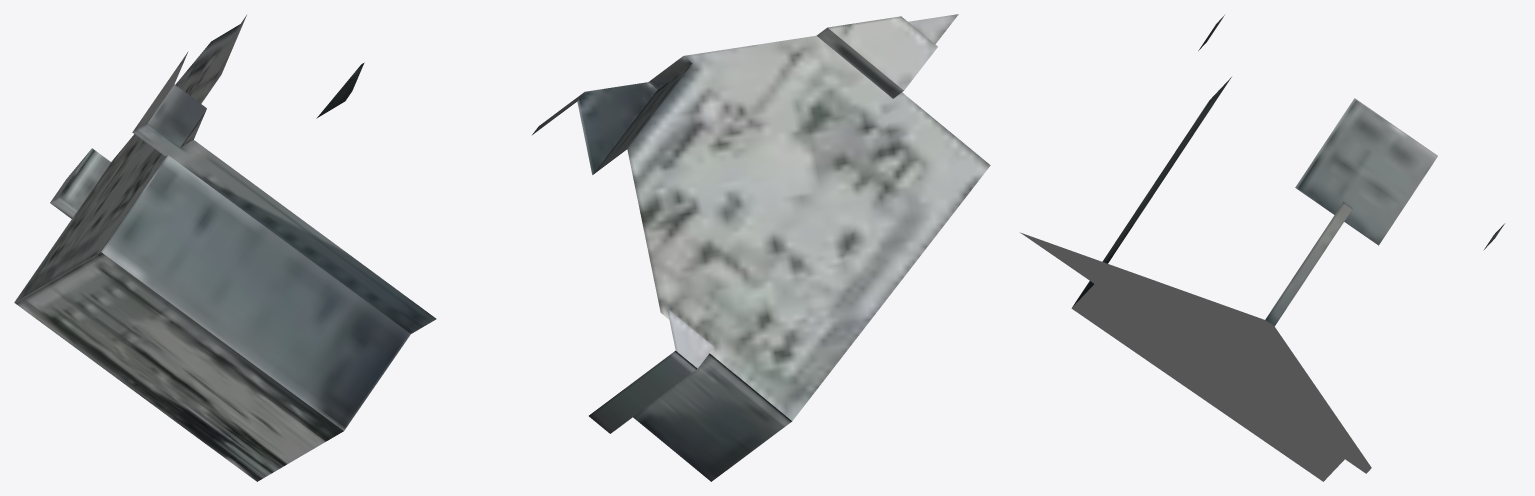
Rendered from 19773_bldg_Building.glb.
3 views of the same model, side by side, from view 1: azimuth 30°, elevation 25°; view 2: azimuth 150°, elevation 25°; view 3: azimuth 270°, elevation 25° (orthographic). The views are drawn at different scales.
Size of the model in its own units: 51.84 by 53.7 by 59.62.
2 materials, 1 textured.
